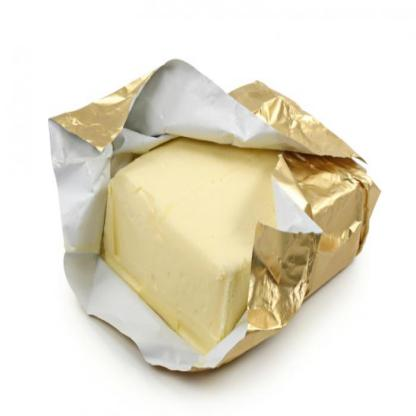butter: (98, 79, 363, 348)
